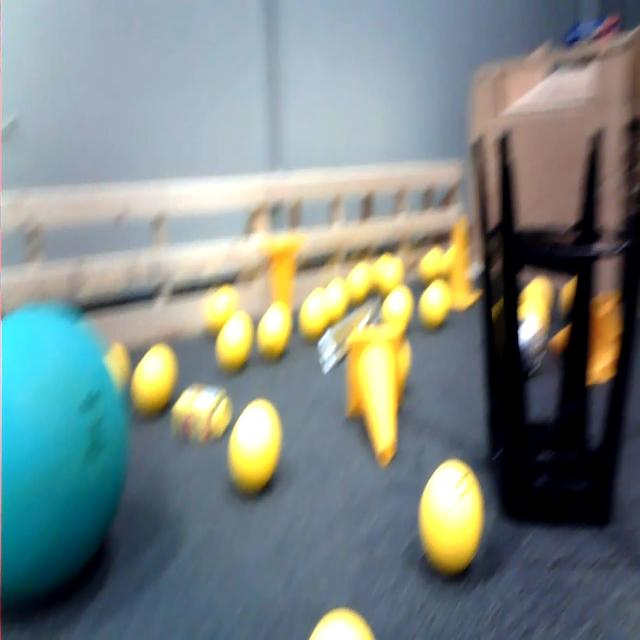fuel: (414, 451, 492, 587), (223, 388, 288, 494), (125, 333, 185, 421), (309, 587, 380, 640), (214, 298, 258, 372), (257, 292, 297, 365), (296, 280, 332, 348), (200, 280, 243, 332), (380, 281, 417, 341), (416, 278, 454, 334), (323, 266, 355, 330), (374, 242, 405, 298), (342, 256, 376, 306), (520, 277, 556, 308)
